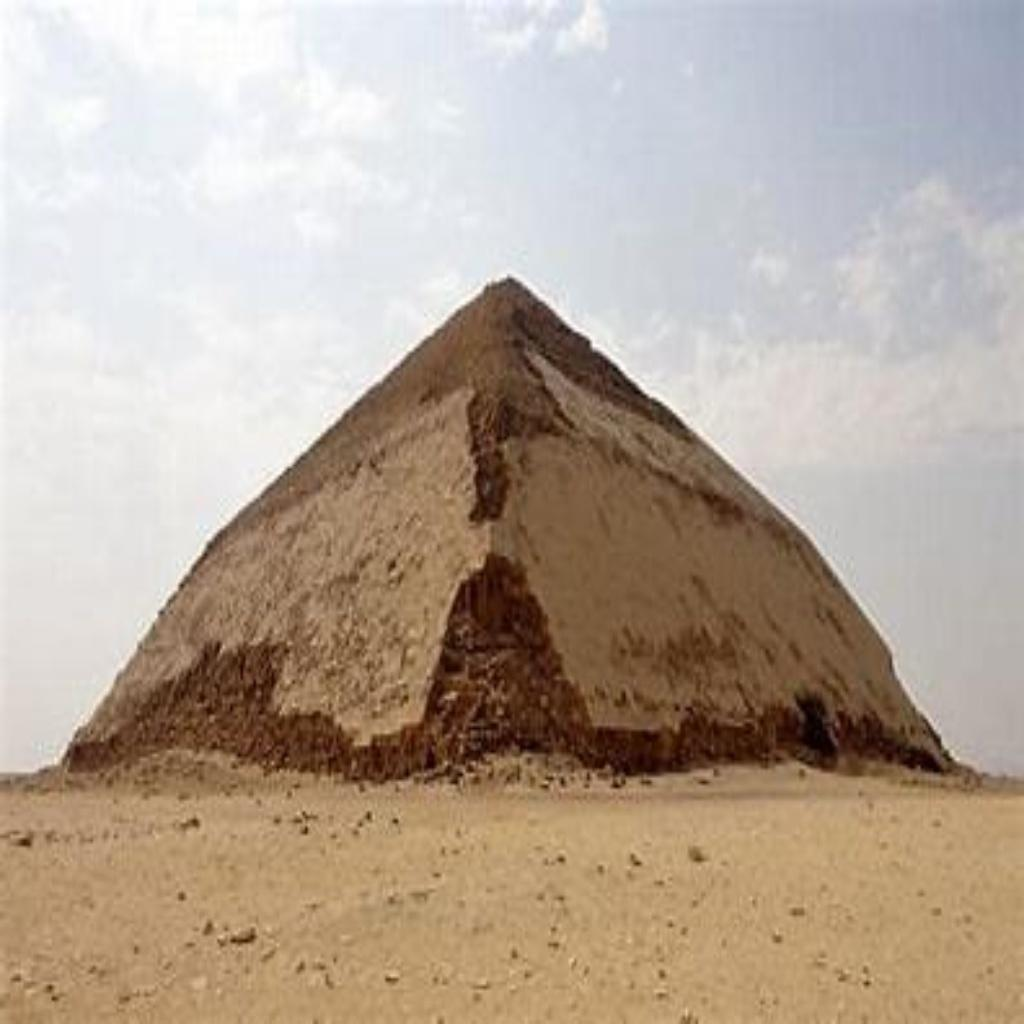Bent Pyramid of King Sneferu: (60, 262, 964, 784)
